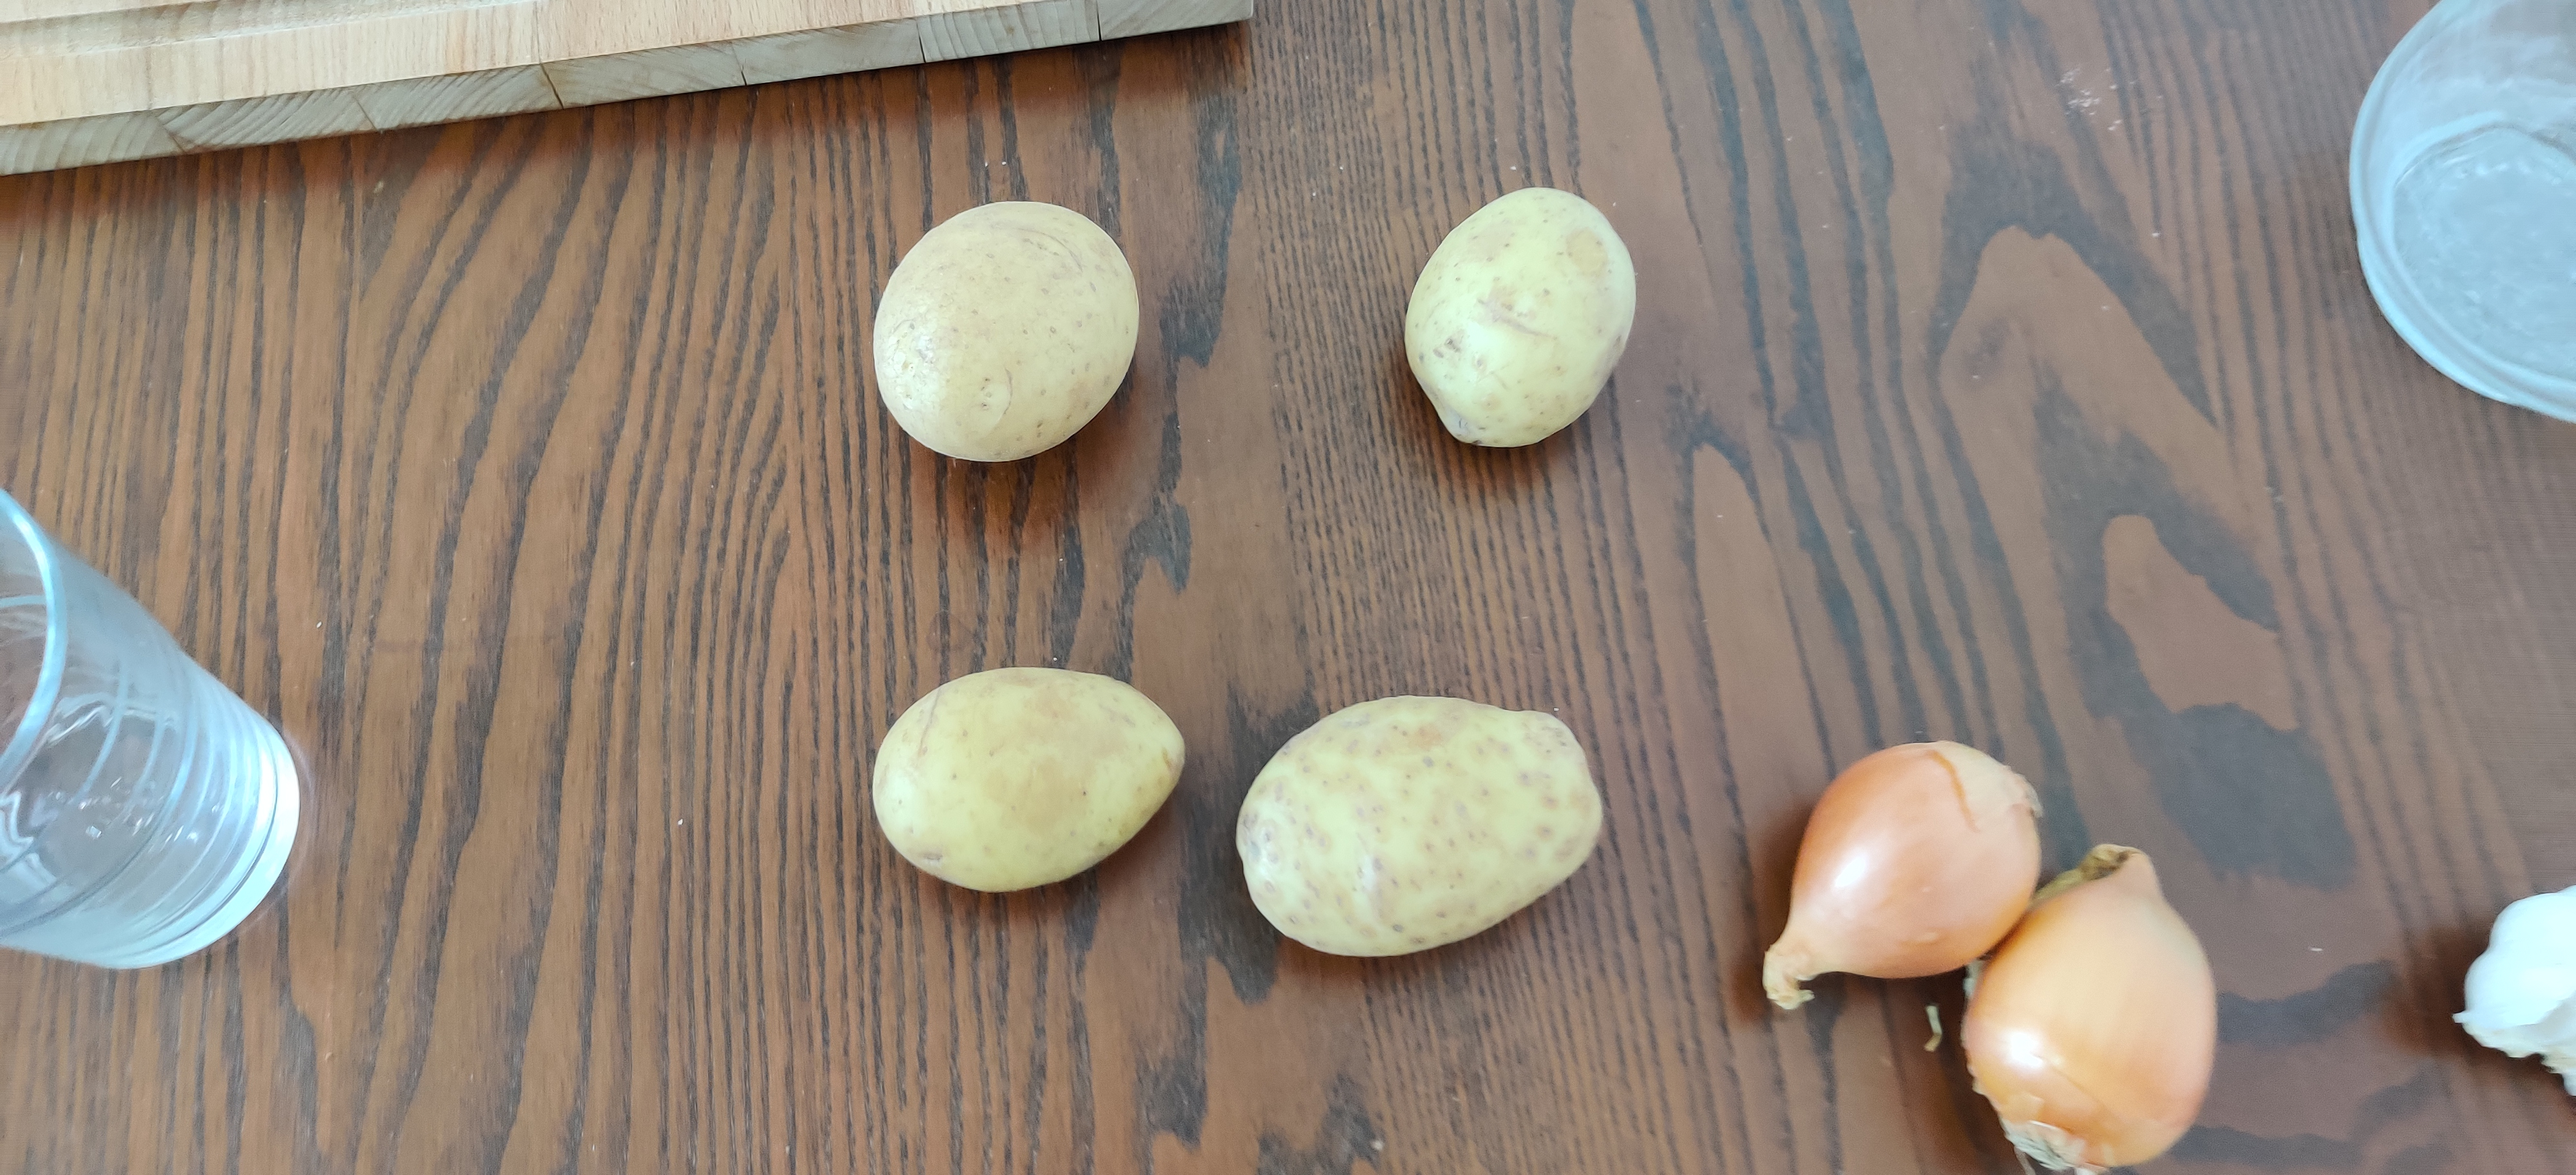Kartoffel: (1235, 695, 1607, 960), (871, 666, 1184, 894), (872, 200, 1138, 462), (1405, 187, 1636, 447)
